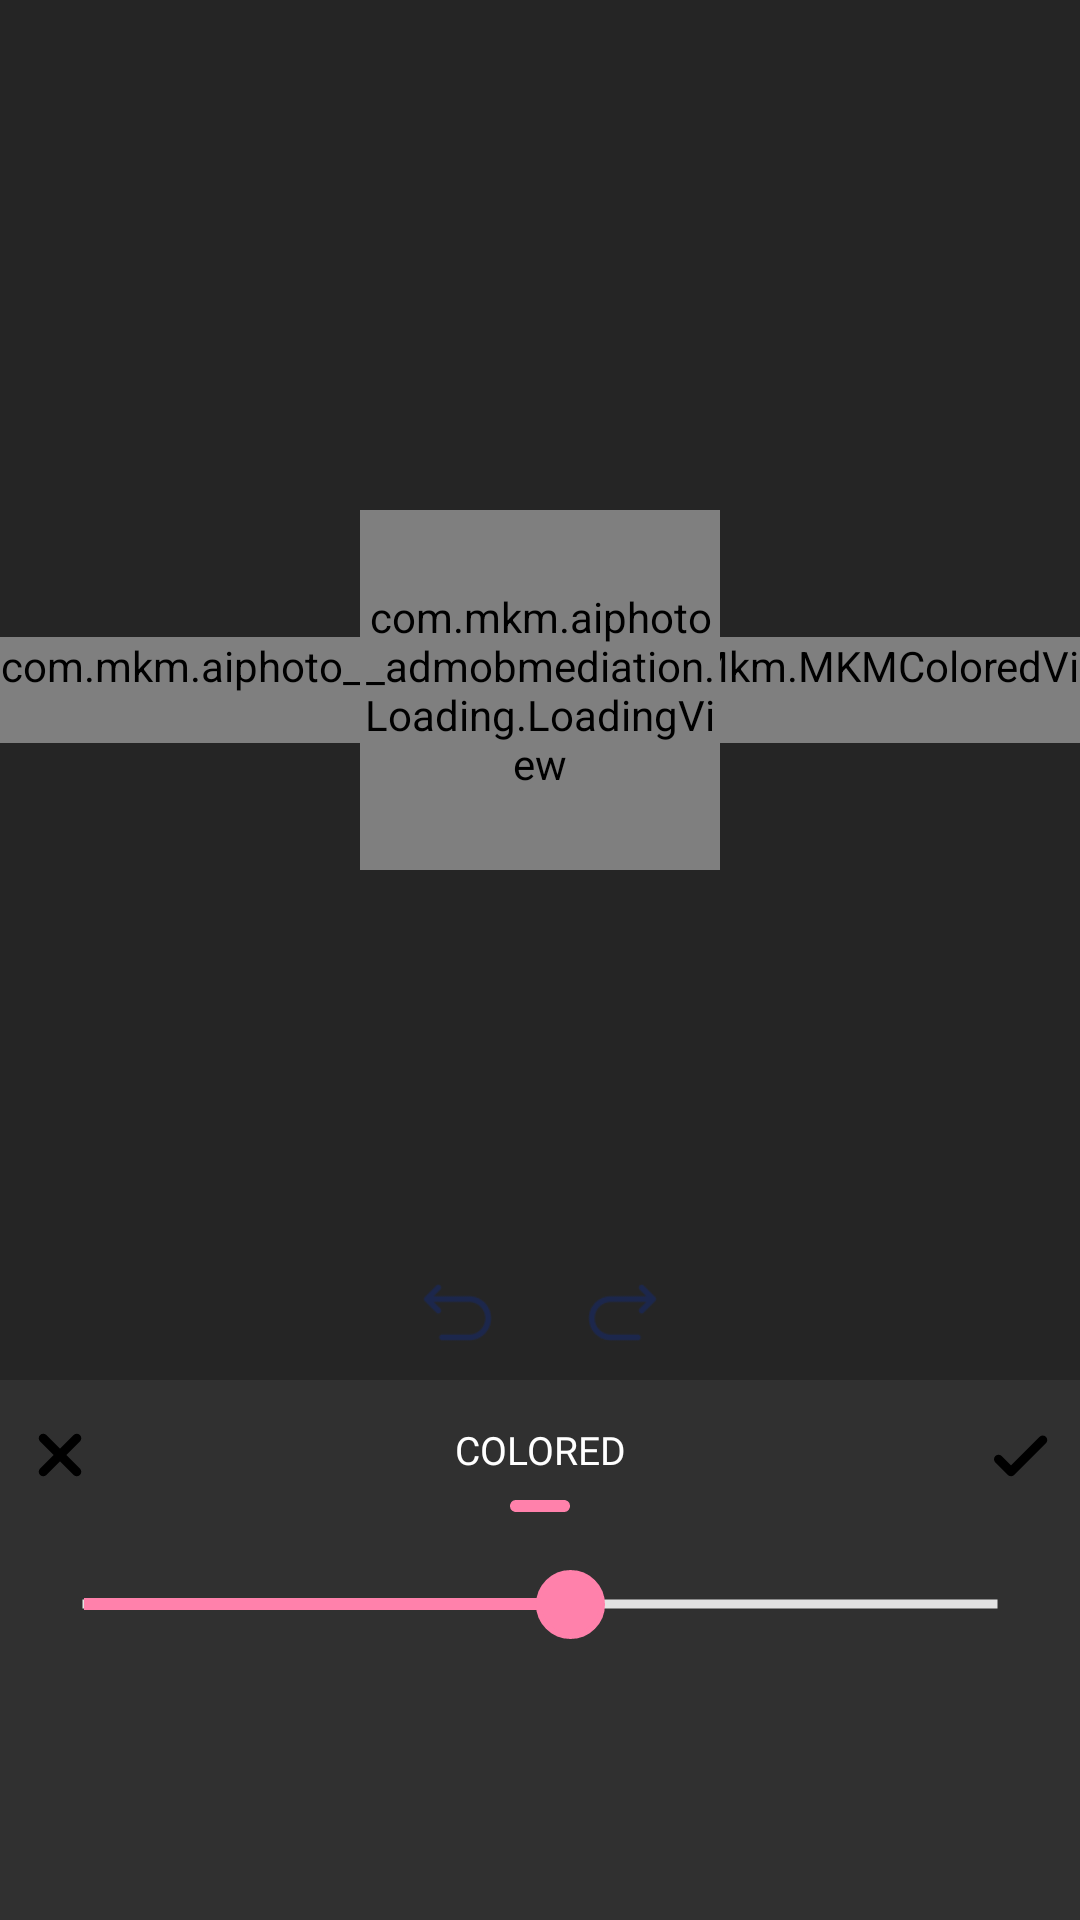

Named icons in this screenshot (1080px×1920px) and their bounding boxes, (x1,y1,x2,y2):
check: (994,1436,1047,1476)
close: (39,1434,81,1476)
redo: (589,1285,656,1340)
undo: (424,1285,491,1340)
